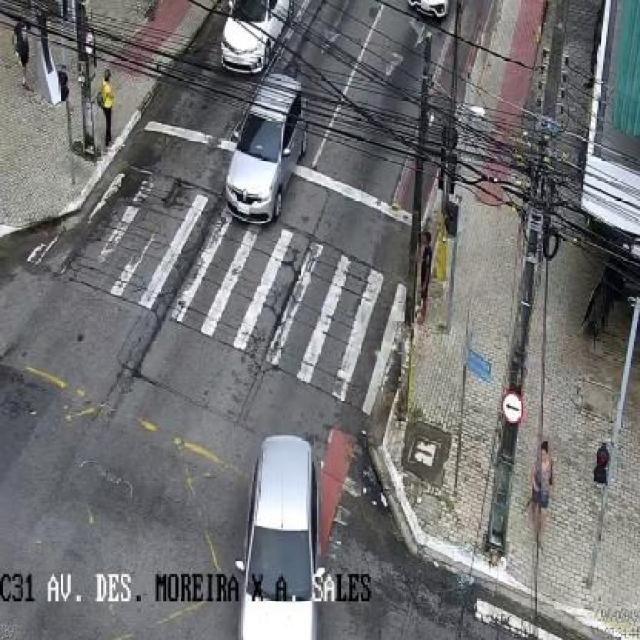Car: (220, 398, 329, 640), (215, 84, 315, 263), (200, 0, 281, 86)
